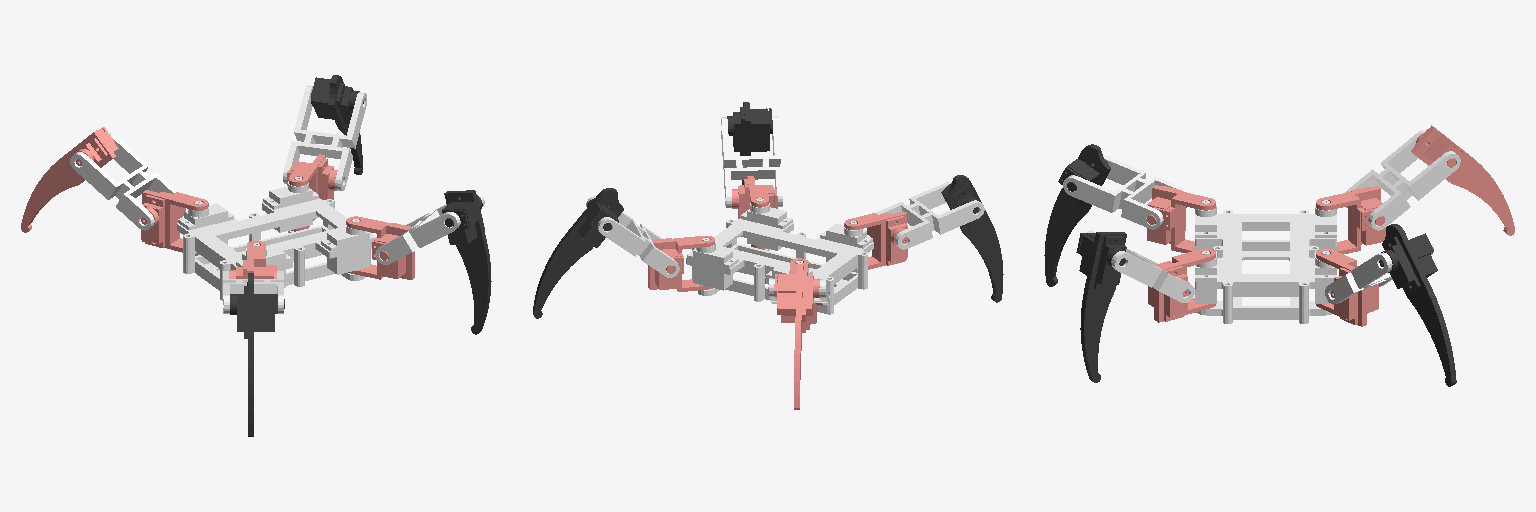
robot.urdf — Assem1.SLDASM:
<?xml version="1.0" encoding="utf-8"?>
<!-- This URDF was automatically created by SolidWorks to URDF Exporter! Originally created by Stephen Brawner (brawner@gmail.com) 
     Commit Version: 1.6.0-4-g7f85cfe  Build Version: 1.6.7995.38578
     For more information, please see http://wiki.ros.org/sw_urdf_exporter -->
<robot
  name="Assem1.SLDASM">
  <link
    name="base_link">
    <inertial>
      <origin
        xyz="-0.00731085084295456 -0.00851087925587996 0.00271971352869341"
        rpy="0 0 0" />
      <mass
        value="0.0679079821580512" />
      <inertia
        ixx="2.27691789868457E-05"
        ixy="-9.08965030901368E-21"
        ixz="2.17587963569009E-09"
        iyy="4.49649964356834E-05"
        iyz="2.73452497823015E-21"
        izz="6.35725126717107E-05" />
    </inertial>
    <visual>
      <origin
        xyz="0 0 0"
        rpy="0 0 0" />
      <geometry>
        <mesh
          filename="base_link.STL" />
      </geometry>
      <material
        name="">
        <color
          rgba="1 1 1 1" />
      </material>
    </visual>
    <collision>
      <origin
        xyz="0 0 0"
        rpy="0 0 0" />
      <geometry>
        <mesh
          filename="base_link.STL" />
      </geometry>
    </collision>
  </link>
  <link
    name="Shoulder_1">
    <inertial>
      <origin
        xyz="0.0207618904202149 2.69395977169247E-05 -0.00806235685928855"
        rpy="0 0 0" />
      <mass
        value="0.0457484903584939" />
      <inertia
        ixx="6.74613981881416E-06"
        ixy="4.65136800407605E-07"
        ixz="-6.03592692187111E-08"
        iyy="9.78634046691786E-06"
        iyz="4.53463780635174E-08"
        izz="4.98418496716257E-06" />
    </inertial>
    <visual>
      <origin
        xyz="0 0 0"
        rpy="0 0 0" />
      <geometry>
        <mesh
          filename="Shoulder_1.STL" />
      </geometry>
      <material
        name="">
        <color
          rgba="1 0.650980392156863 0.631372549019608 1" />
      </material>
    </visual>
    <collision>
      <origin
        xyz="0 0 0"
        rpy="0 0 0" />
      <geometry>
        <mesh
          filename="Shoulder_1.STL" />
      </geometry>
    </collision>
  </link>
  <joint
    name="Shoulder_1_joint"
    type="continuous">
    <origin
      xyz="-0.0426416109678294 0.0269891207441201 0"
      rpy="3.14159265358979 0 2.0470574635615" />
    <parent
      link="base_link" />
    <child
      link="Shoulder_1" />
    <axis
      xyz="0 0 -1" />
  </joint>
  <link
    name="Leg_1">
    <inertial>
      <origin
        xyz="-0.0264266522720229 0 -0.00233437103480915"
        rpy="0 0 0" />
      <mass
        value="0.00794015748844224" />
      <inertia
        ixx="1.81344439591056E-06"
        ixy="-7.41153828847513E-22"
        ixz="-1.57131136270647E-09"
        iyy="3.64705381186593E-06"
        iyz="3.70576914423756E-22"
        izz="2.02897258321293E-06" />
    </inertial>
    <visual>
      <origin
        xyz="0 0 0"
        rpy="0 0 0" />
      <geometry>
        <mesh
          filename="Leg_1.STL" />
      </geometry>
      <material
        name="">
        <color
          rgba="1 1 1 0.35" />
      </material>
    </visual>
    <collision>
      <origin
        xyz="0 0 0"
        rpy="0 0 0" />
      <geometry>
        <mesh
          filename="Leg_1.STL" />
      </geometry>
    </collision>
  </link>
  <joint
    name="Leg_1_joint"
    type="continuous">
    <origin
      xyz="0.0275 0 -0.0124638253613516"
      rpy="1.5707963267949 -0.529435229410584 -3.14159265358979" />
    <parent
      link="Shoulder_1" />
    <child
      link="Leg_1" />
    <axis
      xyz="0 0 1" />
  </joint>
  <link
    name="Foot_1">
    <inertial>
      <origin
        xyz="0.0257522302827565 -0.00192893752993469 0.00783247271816073"
        rpy="0 0 0" />
      <mass
        value="0.0528645081544433" />
      <inertia
        ixx="2.48713252160268E-06"
        ixy="8.94071971560816E-07"
        ixz="-2.20474346733305E-06"
        iyy="2.78673489695987E-05"
        iyz="2.54262413405296E-07"
        izz="2.69613707442341E-05" />
    </inertial>
    <visual>
      <origin
        xyz="0 0 0"
        rpy="0 0 0" />
      <geometry>
        <mesh
          filename="Foot_1.STL" />
      </geometry>
      <material
        name="">
        <color
          rgba="1 0.650980392156863 0.631372549019608 1" />
      </material>
    </visual>
    <collision>
      <origin
        xyz="0 0 0"
        rpy="0 0 0" />
      <geometry>
        <mesh
          filename="Foot_1.STL" />
      </geometry>
    </collision>
  </link>
  <joint
    name="Foot_1_joint"
    type="continuous">
    <origin
      xyz="-0.0621898716668931 -0.00503668992629181 0"
      rpy="1.5707963267949 0 1.83310402336101" />
    <parent
      link="Leg_1" />
    <child
      link="Foot_1" />
    <axis
      xyz="0 1 0" />
  </joint>
  <link
    name="Shoulder_2">
    <inertial>
      <origin
        xyz="0.020759102200052 4.56887365688358E-05 0.00807047402379015"
        rpy="0 0 0" />
      <mass
        value="0.0458330153583676" />
      <inertia
        ixx="6.7593514235898E-06"
        ixy="4.64549071851744E-07"
        ixz="6.0104310365111E-08"
        iyy="9.78940190675078E-06"
        iyz="-4.97887618231983E-08"
        izz="4.9945751662296E-06" />
    </inertial>
    <visual>
      <origin
        xyz="0 0 0"
        rpy="0 0 0" />
      <geometry>
        <mesh
          filename="Shoulder_2.STL" />
      </geometry>
      <material
        name="">
        <color
          rgba="1 0.650980392156863 0.631372549019608 1" />
      </material>
    </visual>
    <collision>
      <origin
        xyz="0 0 0"
        rpy="0 0 0" />
      <geometry>
        <mesh
          filename="Shoulder_2.STL" />
      </geometry>
    </collision>
  </link>
  <joint
    name="Shoulder_2_joint"
    type="continuous">
    <origin
      xyz="-0.0426416109678294 -0.0440108792558799 0"
      rpy="0 0 -2.08713544292115" />
    <parent
      link="base_link" />
    <child
      link="Shoulder_2" />
    <axis
      xyz="0 0 -1" />
  </joint>
  <link
    name="Leg_2">
    <inertial>
      <origin
        xyz="-0.0264266522720229 -2.60208521396521E-18 -0.00233437103480807"
        rpy="0 0 0" />
      <mass
        value="0.00794015748844224" />
      <inertia
        ixx="1.81344439591056E-06"
        ixy="-1.32348898008484E-23"
        ixz="-1.57131136270493E-09"
        iyy="3.64705381186593E-06"
        iyz="-1.32348898008484E-23"
        izz="2.02897258321293E-06" />
    </inertial>
    <visual>
      <origin
        xyz="0 0 0"
        rpy="0 0 0" />
      <geometry>
        <mesh
          filename="Leg_2.STL" />
      </geometry>
      <material
        name="">
        <color
          rgba="1 1 1 0.35" />
      </material>
    </visual>
    <collision>
      <origin
        xyz="0 0 0"
        rpy="0 0 0" />
      <geometry>
        <mesh
          filename="Leg_2.STL" />
      </geometry>
    </collision>
  </link>
  <joint
    name="Leg_2_joint"
    type="continuous">
    <origin
      xyz="0.0275 0 0.0124638253613516"
      rpy="1.5707963267949 0.168441694653303 -3.14159265358979" />
    <parent
      link="Shoulder_2" />
    <child
      link="Leg_2" />
    <axis
      xyz="0 0 1" />
  </joint>
  <link
    name="Foot_2">
    <inertial>
      <origin
        xyz="-0.0210619766832429 0.00202187135765845 0.000523517527389633"
        rpy="0 0 0" />
      <mass
        value="0.0553481186681487" />
      <inertia
        ixx="2.5423401094582E-06"
        ixy="8.12706282497249E-07"
        ixz="-2.45205464511447E-06"
        iyy="3.2307375333385E-05"
        iyz="2.4973941785151E-07"
        izz="3.13558347256303E-05" />
    </inertial>
    <visual>
      <origin
        xyz="0 0 0"
        rpy="0 0 0" />
      <geometry>
        <mesh
          filename="Foot_2.STL" />
      </geometry>
      <material
        name="">
        <color
          rgba="0.298039215686275 0.298039215686275 0.298039215686275 1" />
      </material>
    </visual>
    <collision>
      <origin
        xyz="0 0 0"
        rpy="0 0 0" />
      <geometry>
        <mesh
          filename="Foot_2.STL" />
      </geometry>
    </collision>
  </link>
  <joint
    name="Foot_2_joint"
    type="continuous">
    <origin
      xyz="-0.055 0 0"
      rpy="-1.5707963267949 0 1.29054479297236" />
    <parent
      link="Leg_2" />
    <child
      link="Foot_2" />
    <axis
      xyz="0 -1 0" />
  </joint>
  <link
    name="Shoulder_3">
    <inertial>
      <origin
        xyz="0.0207618904202149 2.69395977169108E-05 -0.0080623568592886"
        rpy="0 0 0" />
      <mass
        value="0.045748490358494" />
      <inertia
        ixx="6.74613981881416E-06"
        ixy="4.65136800407609E-07"
        ixz="-6.0359269218712E-08"
        iyy="9.78634046691787E-06"
        iyz="4.53463780635203E-08"
        izz="4.9841849671626E-06" />
    </inertial>
    <visual>
      <origin
        xyz="0 0 0"
        rpy="0 0 0" />
      <geometry>
        <mesh
          filename="Shoulder_3.STL" />
      </geometry>
      <material
        name="">
        <color
          rgba="1 0.650980392156863 0.631372549019608 1" />
      </material>
    </visual>
    <collision>
      <origin
        xyz="0 0 0"
        rpy="0 0 0" />
      <geometry>
        <mesh
          filename="Shoulder_3.STL" />
      </geometry>
    </collision>
  </link>
  <joint
    name="Shoulder_3_joint"
    type="continuous">
    <origin
      xyz="0.0283583890321706 -0.0440108792558799 0"
      rpy="3.14159265358979 0 -0.983727640664843" />
    <parent
      link="base_link" />
    <child
      link="Shoulder_3" />
    <axis
      xyz="0 0 -1" />
  </joint>
  <link
    name="Leg_3">
    <inertial>
      <origin
        xyz="-0.0264266522720229 -1.38777878078145E-17 -0.00233437103480811"
        rpy="0 0 0" />
      <mass
        value="0.00794015748844224" />
      <inertia
        ixx="1.81344439591056E-06"
        ixy="-5.82335151237331E-22"
        ixz="-1.57131136270647E-09"
        iyy="3.64705381186593E-06"
        iyz="2.64697796016969E-22"
        izz="2.02897258321293E-06" />
    </inertial>
    <visual>
      <origin
        xyz="0 0 0"
        rpy="0 0 0" />
      <geometry>
        <mesh
          filename="Leg_3.STL" />
      </geometry>
      <material
        name="">
        <color
          rgba="1 1 1 0.35" />
      </material>
    </visual>
    <collision>
      <origin
        xyz="0 0 0"
        rpy="0 0 0" />
      <geometry>
        <mesh
          filename="Leg_3.STL" />
      </geometry>
    </collision>
  </link>
  <joint
    name="Leg_3_joint"
    type="continuous">
    <origin
      xyz="0.0275 0 -0.012463825361352"
      rpy="1.5707963267949 -0.618169924456188 3.14159265358979" />
    <parent
      link="Shoulder_3" />
    <child
      link="Leg_3" />
    <axis
      xyz="0 0 1" />
  </joint>
  <link
    name="Foot_3">
    <inertial>
      <origin
        xyz="-0.0197522302827561 0.00192893752993376 0.00783247271816087"
        rpy="0 0 0" />
      <mass
        value="0.0528645081544433" />
      <inertia
        ixx="2.48713252160266E-06"
        ixy="8.94071971560841E-07"
        ixz="2.20474346733322E-06"
        iyy="2.78673489695986E-05"
        iyz="-2.54262413405309E-07"
        izz="2.6961370744234E-05" />
    </inertial>
    <visual>
      <origin
        xyz="0 0 0"
        rpy="0 0 0" />
      <geometry>
        <mesh
          filename="Foot_3.STL" />
      </geometry>
      <material
        name="">
        <color
          rgba="0.298039215686275 0.298039215686275 0.298039215686275 1" />
      </material>
    </visual>
    <collision>
      <origin
        xyz="0 0 0"
        rpy="0 0 0" />
      <geometry>
        <mesh
          filename="Foot_3.STL" />
      </geometry>
    </collision>
  </link>
  <joint
    name="Foot_3_joint"
    type="continuous">
    <origin
      xyz="-0.0615519579529959 0.0058424606958184 0"
      rpy="-1.5707963267949 0 -1.95024260232643" />
    <parent
      link="Leg_3" />
    <child
      link="Foot_3" />
    <axis
      xyz="0 -1 0" />
  </joint>
  <link
    name="Shoulder_4">
    <inertial>
      <origin
        xyz="0.020759102200052 4.5688736568867E-05 0.00807047402379444"
        rpy="0 0 0" />
      <mass
        value="0.0458330153583677" />
      <inertia
        ixx="6.75935142358979E-06"
        ixy="4.64549071851742E-07"
        ixz="6.01043103658382E-08"
        iyy="9.78940190675078E-06"
        iyz="-4.97887618230373E-08"
        izz="4.9945751662296E-06" />
    </inertial>
    <visual>
      <origin
        xyz="0 0 0"
        rpy="0 0 0" />
      <geometry>
        <mesh
          filename="Shoulder_4.STL" />
      </geometry>
      <material
        name="">
        <color
          rgba="1 0.650980392156863 0.631372549019608 1" />
      </material>
    </visual>
    <collision>
      <origin
        xyz="0 0 0"
        rpy="0 0 0" />
      <geometry>
        <mesh
          filename="Shoulder_4.STL" />
      </geometry>
    </collision>
  </link>
  <joint
    name="Shoulder_4_joint"
    type="continuous">
    <origin
      xyz="0.0283583890321707 0.0269891207441201 0"
      rpy="0 0 0.747208533524467" />
    <parent
      link="base_link" />
    <child
      link="Shoulder_4" />
    <axis
      xyz="0 0 -1" />
  </joint>
  <link
    name="Leg_4">
    <inertial>
      <origin
        xyz="-0.0264266522720229 -6.93889390390723E-18 -0.00233437103480797"
        rpy="0 0 0" />
      <mass
        value="0.00794015748844224" />
      <inertia
        ixx="1.81344439591056E-06"
        ixy="-1.05879118406788E-22"
        ixz="-1.57131136270626E-09"
        iyy="3.64705381186593E-06"
        iyz="2.11758236813575E-22"
        izz="2.02897258321293E-06" />
    </inertial>
    <visual>
      <origin
        xyz="0 0 0"
        rpy="0 0 0" />
      <geometry>
        <mesh
          filename="Leg_4.STL" />
      </geometry>
      <material
        name="">
        <color
          rgba="1 1 1 0.35" />
      </material>
    </visual>
    <collision>
      <origin
        xyz="0 0 0"
        rpy="0 0 0" />
      <geometry>
        <mesh
          filename="Leg_4.STL" />
      </geometry>
    </collision>
  </link>
  <joint
    name="Leg_4_joint"
    type="continuous">
    <origin
      xyz="0.0275000000000001 0 0.0124638253613518"
      rpy="1.57079632679489 0.686087895432485 3.14159265358979" />
    <parent
      link="Shoulder_4" />
    <child
      link="Leg_4" />
    <axis
      xyz="0 0 1" />
  </joint>
  <link
    name="Foot_4">
    <inertial>
      <origin
        xyz="-0.0210619766832434 0.00207616608521136 0.00052351752738955"
        rpy="0 0 0" />
      <mass
        value="0.0553481186681488" />
      <inertia
        ixx="2.54234010945813E-06"
        ixy="8.12706282497274E-07"
        ixz="-2.45205464511448E-06"
        iyy="3.23073753333849E-05"
        iyz="2.49739417851508E-07"
        izz="3.13558347256303E-05" />
    </inertial>
    <visual>
      <origin
        xyz="0 0 0"
        rpy="0 0 0" />
      <geometry>
        <mesh
          filename="Foot_4.STL" />
      </geometry>
      <material
        name="">
        <color
          rgba="0.298039215686275 0.298039215686275 0.298039215686275 1" />
      </material>
    </visual>
    <collision>
      <origin
        xyz="0 0 0"
        rpy="0 0 0" />
      <geometry>
        <mesh
          filename="Foot_4.STL" />
      </geometry>
    </collision>
  </link>
  <joint
    name="Foot_4_joint"
    type="continuous">
    <origin
      xyz="-0.055 0 0"
      rpy="-1.5707963267949 0 1.56279460511823" />
    <parent
      link="Leg_4" />
    <child
      link="Foot_4" />
    <axis
      xyz="0 -1 0" />
  </joint>

      <link name="world"/>
      <joint name="root_free_joint" type="floating">
        <parent link="world"/>
        <child link="base_link"/>
      </joint>
    </robot>
    

--- Facts derived from the render (not from the file) ---
3 views of the same robot in one strip: view 1: azimuth 30°, elevation 25°; view 2: azimuth 150°, elevation 25°; view 3: azimuth 270°, elevation 25° (orthographic).
Model Assem1.SLDASM with 14 links and 13 joints (12 continuous, 1 floating), rooted at world, posed all joints at 0.
Links seen in each view (by area): view 1: base_link, Foot_3, Leg_1, Leg_4, Foot_1, Foot_2, Shoulder_1, Foot_4, Shoulder_3, Leg_3, Shoulder_4, Leg_2 (+1 smaller); view 2: base_link, Foot_4, Leg_2, Foot_2, Foot_1, Leg_3, Leg_4, Shoulder_2, Foot_3, Shoulder_4, Shoulder_3; view 3: base_link, Foot_4, Foot_3, Leg_1, Leg_2, Foot_2, Foot_1, Shoulder_2, Shoulder_1, Shoulder_3, Shoulder_4, Leg_3 (+1 smaller).
Link boxes in pixels (x1=…): base_link: x1=177, y1=177, x2=376, y2=300; Foot_3: x1=442, y1=190, x2=491, y2=334; Leg_1: x1=70, y1=133, x2=177, y2=230; Leg_4: x1=283, y1=85, x2=366, y2=190; Foot_1: x1=21, y1=127, x2=118, y2=232; Foot_2: x1=230, y1=273, x2=284, y2=436; Shoulder_1: x1=141, y1=190, x2=208, y2=255; Foot_4: x1=311, y1=75, x2=363, y2=174; Shoulder_3: x1=346, y1=216, x2=414, y2=279; Leg_3: x1=375, y1=191, x2=484, y2=264; Shoulder_4: x1=287, y1=154, x2=337, y2=231; Leg_2: x1=223, y1=271, x2=283, y2=313; base_link: x1=686, y1=198, x2=873, y2=314; Foot_4: x1=533, y1=188, x2=623, y2=318; Leg_2: x1=876, y1=182, x2=984, y2=249; Foot_2: x1=941, y1=175, x2=1003, y2=302; Foot_1: x1=768, y1=265, x2=819, y2=409; Leg_3: x1=721, y1=116, x2=782, y2=207; Leg_4: x1=586, y1=196, x2=679, y2=277; Shoulder_2: x1=844, y1=211, x2=907, y2=272; Foot_3: x1=727, y1=102, x2=772, y2=184; Shoulder_4: x1=648, y1=236, x2=714, y2=291; Shoulder_3: x1=732, y1=176, x2=777, y2=249; base_link: x1=1195, y1=200, x2=1336, y2=323; Foot_4: x1=1379, y1=224, x2=1456, y2=386; Foot_3: x1=1076, y1=232, x2=1126, y2=382; Leg_1: x1=1345, y1=130, x2=1460, y2=230; Leg_2: x1=1063, y1=155, x2=1188, y2=229; Foot_2: x1=1044, y1=144, x2=1110, y2=286; Foot_1: x1=1411, y1=125, x2=1514, y2=235; Shoulder_2: x1=1147, y1=185, x2=1215, y2=252; Shoulder_1: x1=1316, y1=186, x2=1385, y2=253; Shoulder_3: x1=1148, y1=248, x2=1215, y2=322; Shoulder_4: x1=1316, y1=248, x2=1379, y2=326; Leg_3: x1=1086, y1=231, x2=1194, y2=302.
Size in the robot's own frame: 0.2235 by 0.2782 by 0.122 metres.
Meshes: 13 distinct files referenced, 13 mesh visuals loaded (13 binary STL).
